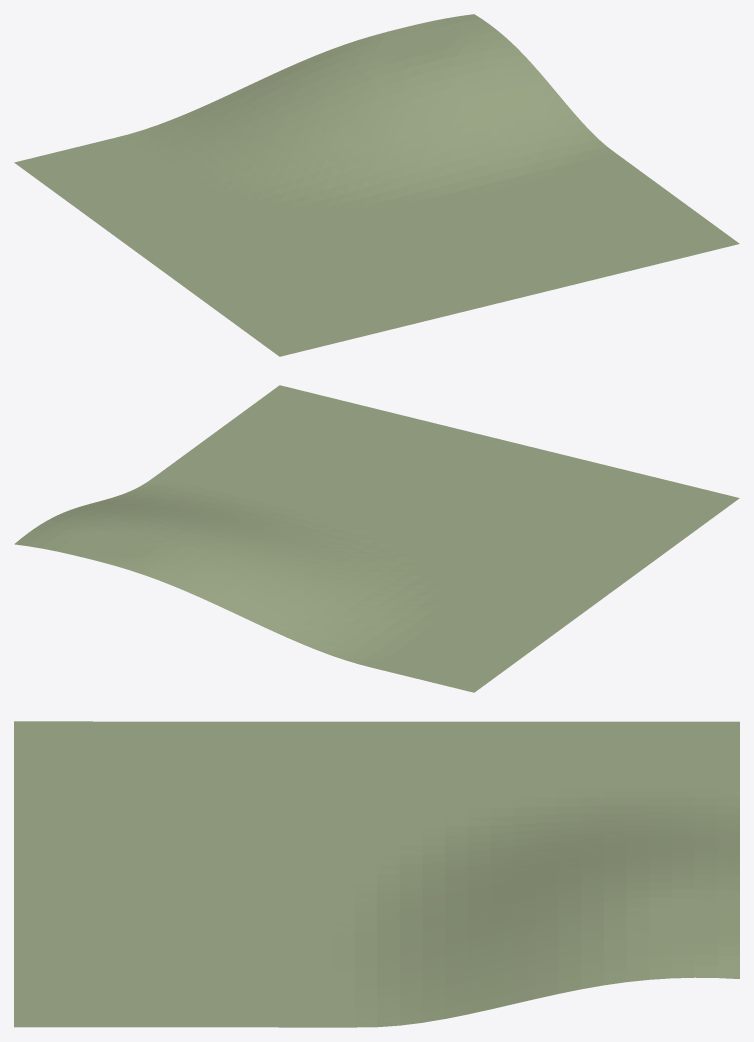
Rendered from desert-6-22.glb.
3 views of the same model, one above another, from view 1: azimuth 30°, elevation 25°; view 2: azimuth 150°, elevation 25°; view 3: azimuth 270°, elevation 25° (orthographic). The views are drawn at different scales.
Visible parts, largest first — view 1: desert-6-22; view 2: desert-6-22; view 3: desert-6-22.
Boxes of the visible parts, bbox=[...] form: desert-6-22: bbox=[14, 14, 739, 356]; desert-6-22: bbox=[14, 385, 739, 692]; desert-6-22: bbox=[14, 721, 739, 1027].
Size of the model in its own units: 512 by 42.61 by 512.
